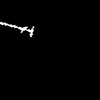double_crochet: (0, 22, 33, 36)
